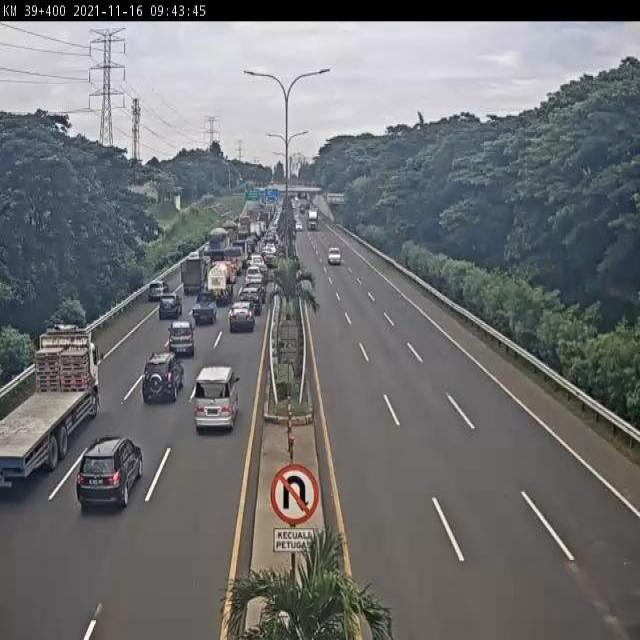car: (76, 434, 144, 509), (194, 364, 239, 432), (143, 352, 185, 404), (167, 324, 196, 363), (228, 302, 255, 338), (190, 295, 216, 329), (156, 296, 180, 321), (240, 288, 262, 315), (144, 283, 165, 305), (246, 279, 266, 300), (246, 265, 264, 284), (248, 254, 264, 266), (295, 220, 302, 229)
small truck: (178, 260, 205, 299), (224, 246, 243, 274)
truck-l-: (0, 325, 100, 479), (306, 208, 316, 227)
truck-m-: (206, 261, 234, 307), (206, 230, 228, 266)
